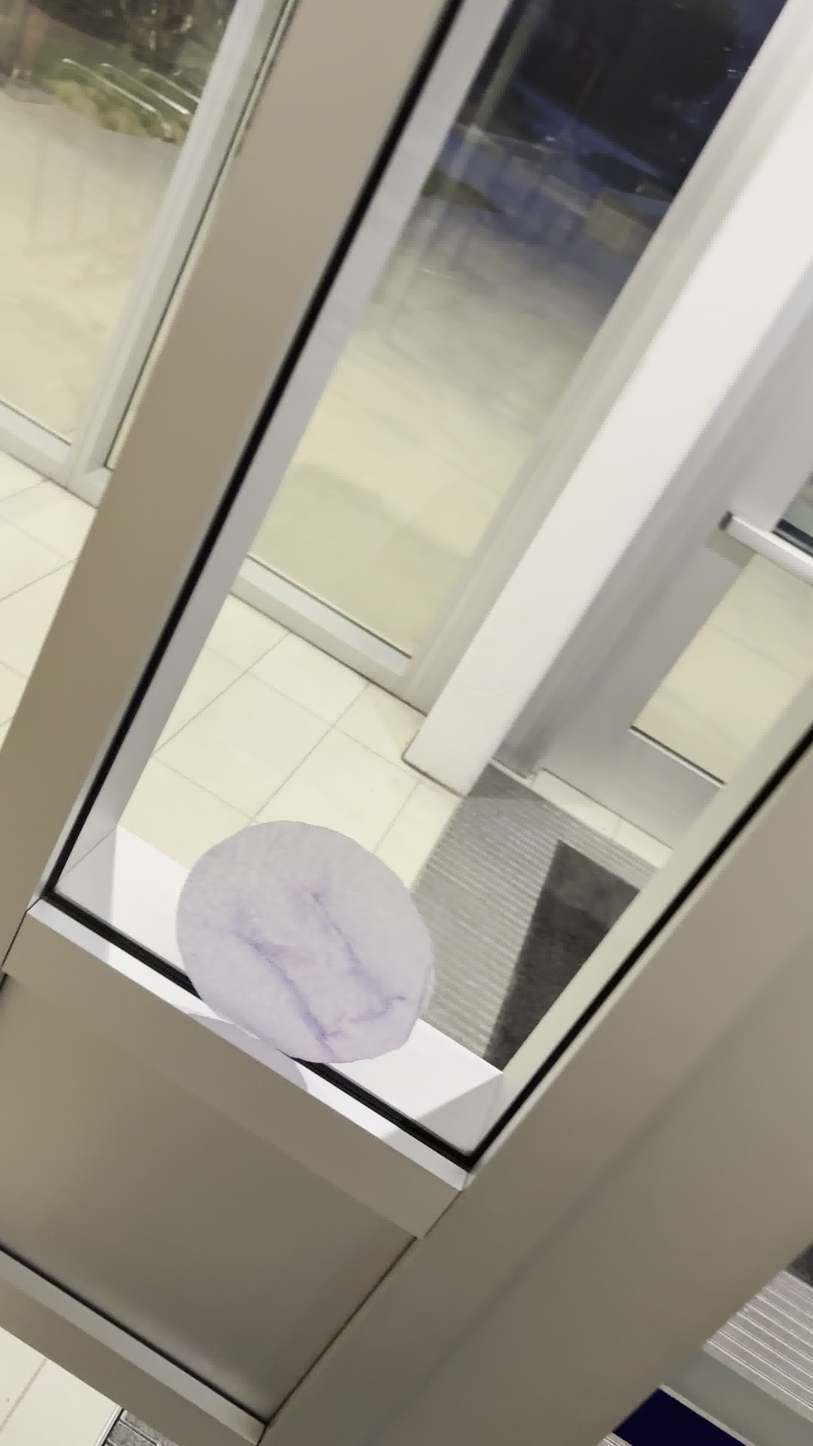Target: (168, 810, 440, 1068)
